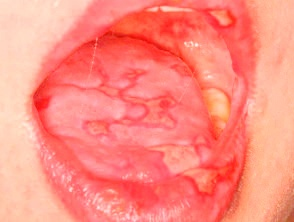SJS-TEN: (133, 102, 256, 217), (77, 42, 187, 143), (143, 16, 205, 89), (200, 0, 248, 38)
